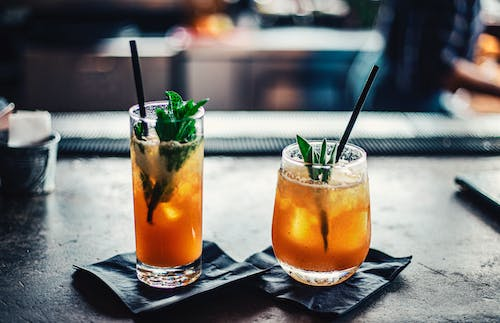alcohol: (270, 139, 373, 287), (128, 100, 205, 289)
